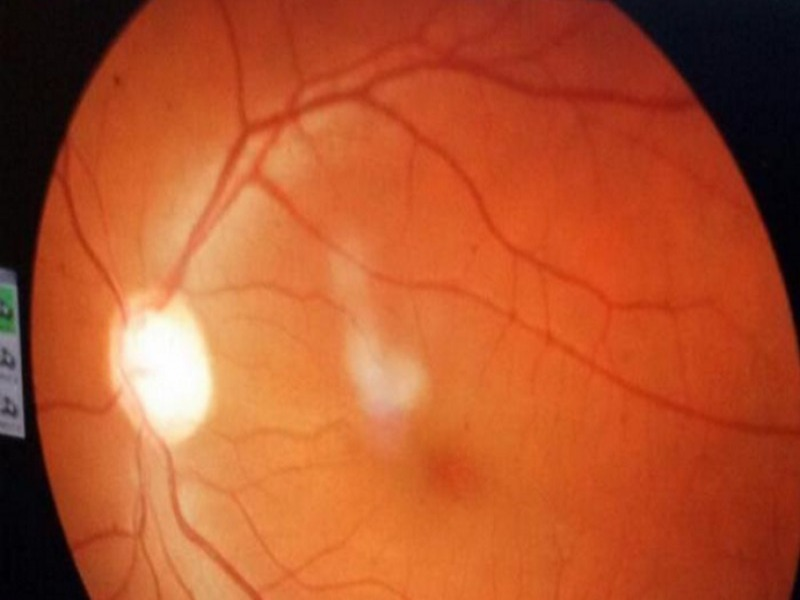Optic Cup: (126, 306, 213, 444)
Optic Disc: (109, 287, 173, 420)
